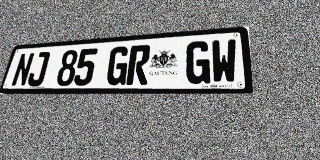5: (73, 48, 98, 86)
8: (55, 49, 80, 86)
G: (185, 40, 210, 84), (105, 46, 130, 85)
J: (26, 51, 51, 86)
N: (10, 52, 35, 87)
R: (126, 45, 151, 85)
W: (211, 39, 238, 84)
